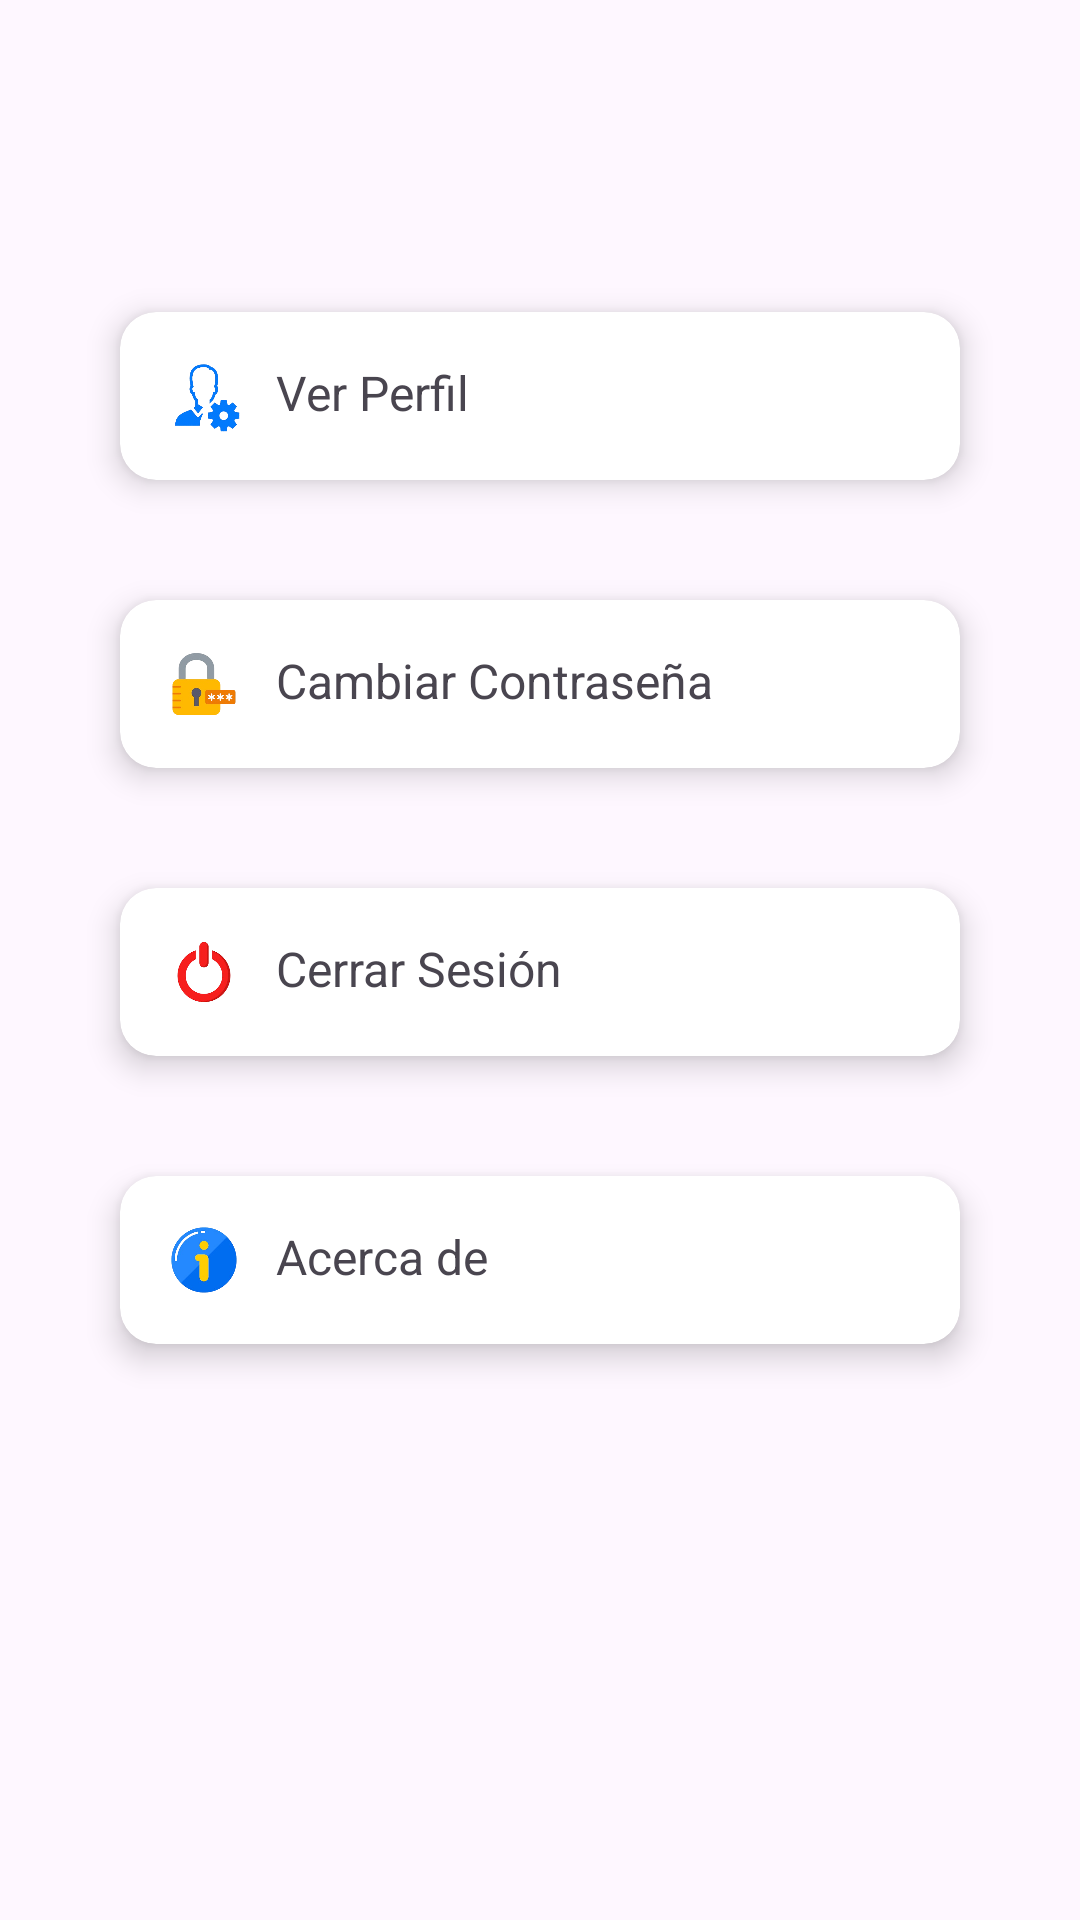

Icon click points for this 1080px×1920px phone screenshot, format [x,y]:
info: [204,1260]
password: [204,684]
person: [207,398]
